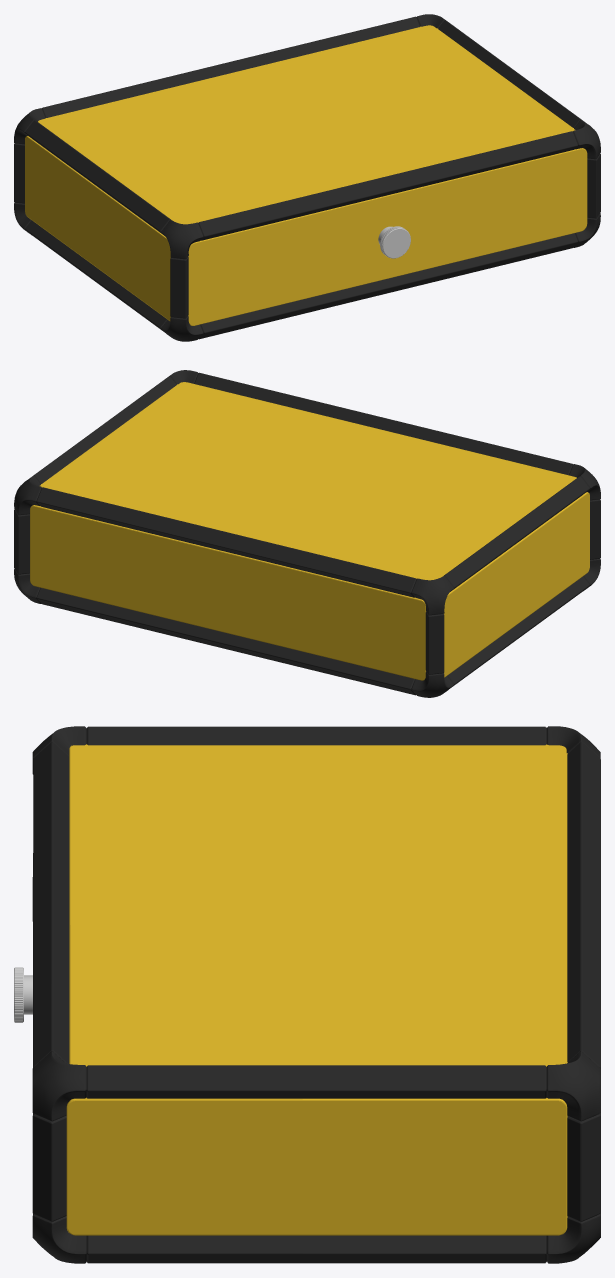
The picture shows the model from 3 angles, top to bottom: view 1: azimuth 30°, elevation 25°; view 2: azimuth 150°, elevation 25°; view 3: azimuth 270°, elevation 25°; orthographic projection. The views are drawn at different scales.
Visible parts, largest first — view 1: 523x329x79; view 2: 523x329x79; view 3: 523x329x79.
Part boxes in pixels (x1,y1,x2,y2): 523x329x79: (14, 14, 600, 341); 523x329x79: (14, 370, 600, 697); 523x329x79: (14, 726, 600, 1263).
Bounding box in the file's own units: 0.6007 × 0.1567 × 0.4196.
